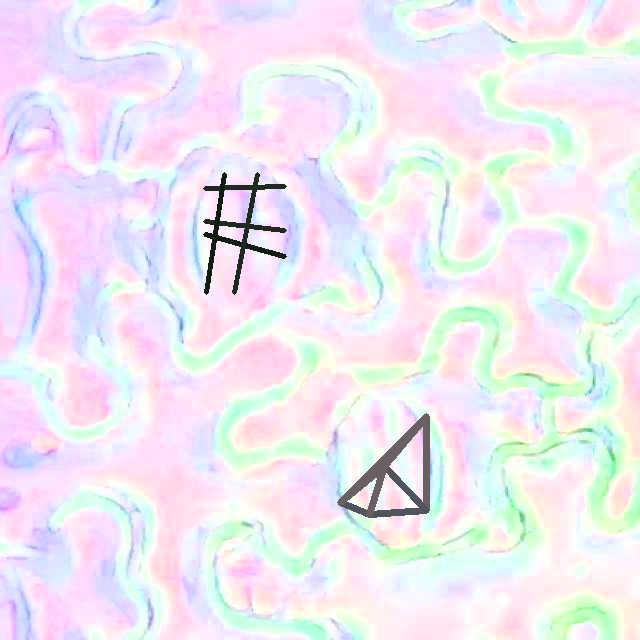close: (203, 172, 286, 294)
open: (338, 414, 429, 517)
